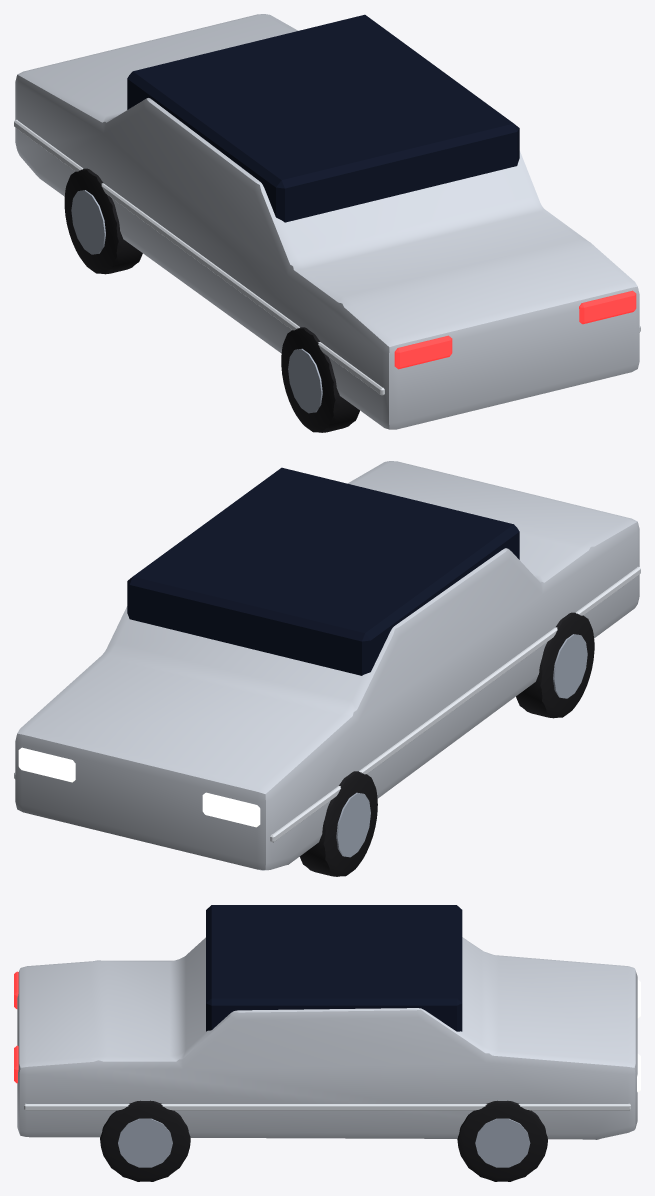
File: car_sedan.glb
The picture shows the model from 3 angles, top to bottom: view 1: azimuth 30°, elevation 25°; view 2: azimuth 150°, elevation 25°; view 3: azimuth 270°, elevation 25°; orthographic projection. The views are drawn at different scales.
Visible parts, largest first — view 1: paint_white, glass, rubber, steel, chrome, lamp_red; view 2: paint_white, glass, rubber, steel, chrome, lamp_white; view 3: paint_white, glass, rubber, steel, chrome.
Boxes of the visible parts, <box> form: paint_white: <box>15,14,639,429</box>; glass: <box>127,14,519,222</box>; rubber: <box>64,168,359,432</box>; steel: <box>71,190,322,413</box>; chrome: <box>14,119,640,395</box>; lamp_red: <box>394,290,636,369</box>; paint_white: <box>15,461,639,870</box>; glass: <box>127,467,519,675</box>; rubber: <box>299,612,594,876</box>; steel: <box>336,634,587,857</box>; chrome: <box>14,566,640,842</box>; lamp_white: <box>18,747,260,827</box>; paint_white: <box>17,937,637,1139</box>; glass: <box>206,905,462,1031</box>; rubber: <box>100,1100,547,1181</box>; steel: <box>118,1118,530,1167</box>; chrome: <box>24,1103,630,1110</box>.
Bounding box in the file's own units: 1.88 × 1.46 × 4.65.
